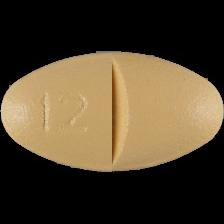33261-683: (0, 0, 224, 224)
